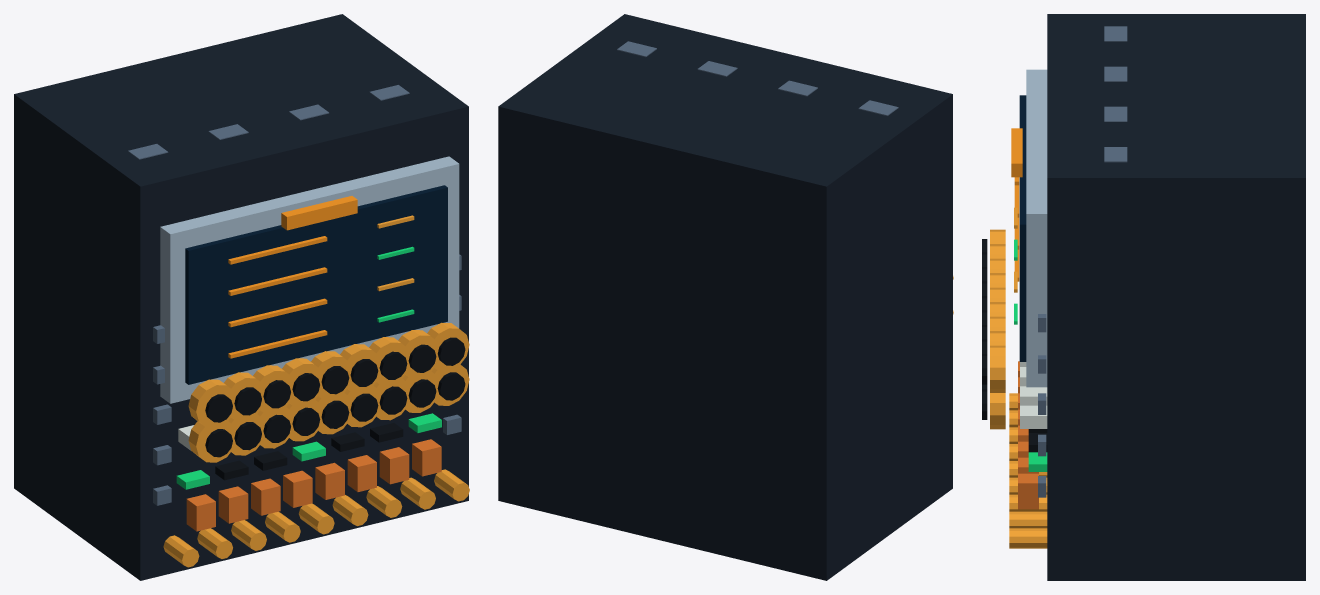
Rendered from 27_L88_CO2RegenerationControllerPLC.fbx.
3 views of the same model, side by side, from view 1: azimuth 30°, elevation 25°; view 2: azimuth 150°, elevation 25°; view 3: azimuth 270°, elevation 25° (orthographic). The views are drawn at different scales.
Visible parts, largest first — view 1: L87_CO2RegenerationControllerPLC_Part_0000, L87_CO2RegenerationControllerPLC_Part_0002, L87_CO2RegenerationControllerPLC_Part_0001, L87_CO2RegenerationControllerPLC_Part_0009, L87_CO2RegenerationControllerPLC_Part_0004, L87_CO2RegenerationControllerPLC_Part_0008, L87_CO2RegenerationControllerPLC_Part_0003, L87_CO2RegenerationControllerPLC_Part_0007, L87_CO2RegenerationControllerPLC_Part_0005, L87_CO2RegenerationControllerPLC_Part_0010, L87_CO2RegenerationControllerPLC_Part_0029, L87_CO2RegenerationControllerPLC_Part_0011 (+30 smaller); view 2: L87_CO2RegenerationControllerPLC_Part_0000, L87_CO2RegenerationControllerPLC_Part_0008; view 3: L87_CO2RegenerationControllerPLC_Part_0000, L87_CO2RegenerationControllerPLC_Part_0001, L87_CO2RegenerationControllerPLC_Part_0004, L87_CO2RegenerationControllerPLC_Part_0008, L87_CO2RegenerationControllerPLC_Part_0002, L87_CO2RegenerationControllerPLC_Part_0009, L87_CO2RegenerationControllerPLC_Part_0006, L87_CO2RegenerationControllerPLC_Part_0045, L87_CO2RegenerationControllerPLC_Part_0010, L87_CO2RegenerationControllerPLC_Part_0027, L87_CO2RegenerationControllerPLC_Part_0005, L87_CO2RegenerationControllerPLC_Part_0003.
Part boxes in pixels (x1=…): L87_CO2RegenerationControllerPLC_Part_0000: x1=14, y1=14, x2=468, y2=580; L87_CO2RegenerationControllerPLC_Part_0002: x1=185, y1=185, x2=447, y2=384; L87_CO2RegenerationControllerPLC_Part_0001: x1=160, y1=156, x2=459, y2=403; L87_CO2RegenerationControllerPLC_Part_0009: x1=186, y1=439, x2=441, y2=531; L87_CO2RegenerationControllerPLC_Part_0004: x1=163, y1=215, x2=469, y2=567; L87_CO2RegenerationControllerPLC_Part_0008: x1=128, y1=85, x2=461, y2=505; L87_CO2RegenerationControllerPLC_Part_0003: x1=228, y1=236, x2=327, y2=358; L87_CO2RegenerationControllerPLC_Part_0007: x1=215, y1=423, x2=403, y2=480; L87_CO2RegenerationControllerPLC_Part_0005: x1=176, y1=246, x2=441, y2=489; L87_CO2RegenerationControllerPLC_Part_0010: x1=281, y1=196, x2=357, y2=230; L87_CO2RegenerationControllerPLC_Part_0029: x1=188, y1=379, x2=235, y2=427; L87_CO2RegenerationControllerPLC_Part_0011: x1=188, y1=420, x2=235, y2=462; L87_CO2RegenerationControllerPLC_Part_0000: x1=498, y1=14, x2=952, y2=580; L87_CO2RegenerationControllerPLC_Part_0008: x1=617, y1=41, x2=898, y2=115; L87_CO2RegenerationControllerPLC_Part_0000: x1=1047, y1=14, x2=1305, y2=580; L87_CO2RegenerationControllerPLC_Part_0001: x1=1026, y1=69, x2=1047, y2=387; L87_CO2RegenerationControllerPLC_Part_0004: x1=1009, y1=207, x2=1047, y2=548; L87_CO2RegenerationControllerPLC_Part_0008: x1=1038, y1=26, x2=1127, y2=497; L87_CO2RegenerationControllerPLC_Part_0002: x1=1019, y1=95, x2=1026, y2=361; L87_CO2RegenerationControllerPLC_Part_0009: x1=1018, y1=361, x2=1038, y2=509; L87_CO2RegenerationControllerPLC_Part_0006: x1=1020, y1=362, x2=1047, y2=428; L87_CO2RegenerationControllerPLC_Part_0045: x1=990, y1=345, x2=1005, y2=392; L87_CO2RegenerationControllerPLC_Part_0010: x1=1011, y1=128, x2=1022, y2=177; L87_CO2RegenerationControllerPLC_Part_0027: x1=990, y1=393, x2=1005, y2=429; L87_CO2RegenerationControllerPLC_Part_0005: x1=1014, y1=239, x2=1047, y2=471; L87_CO2RegenerationControllerPLC_Part_0003: x1=1014, y1=177, x2=1019, y2=281.
Bounding box in the file's own units: 104 × 120 × 86.88.
